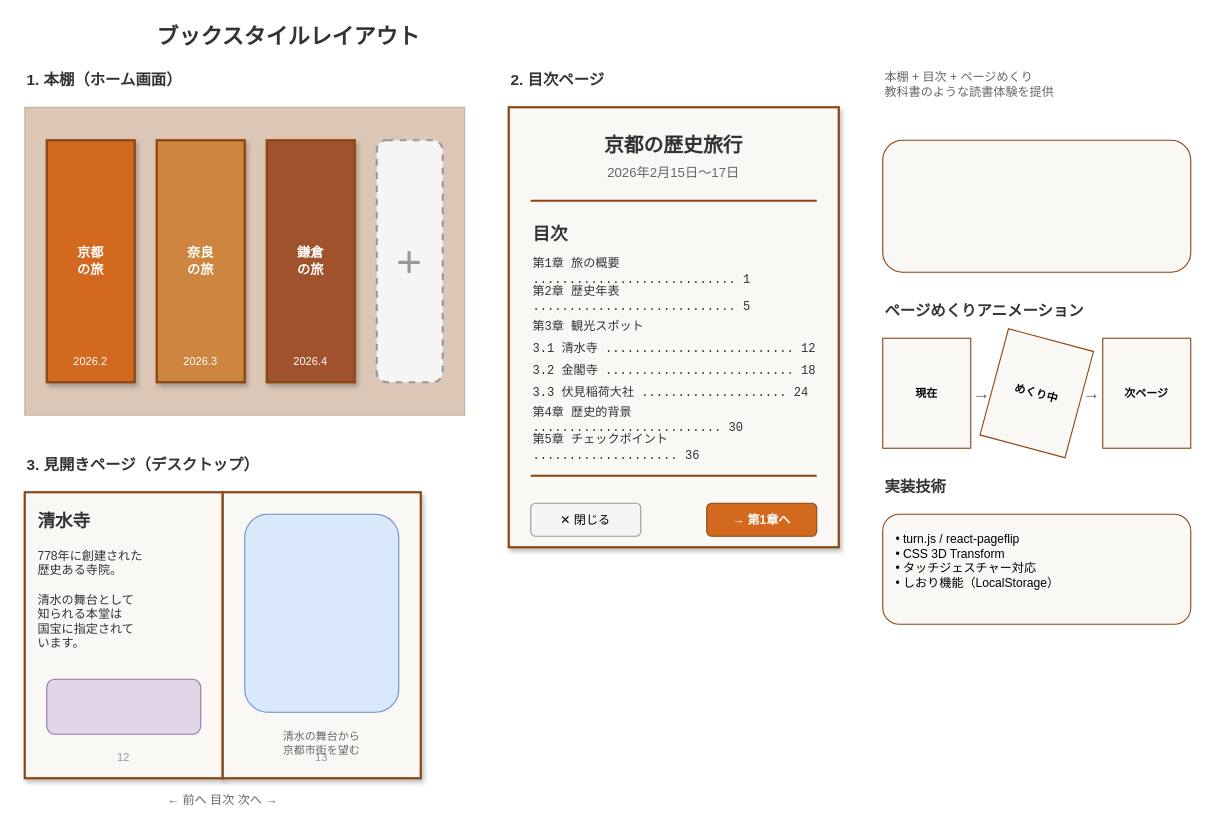
Some shapes in this 1210 by 829 pixel diagram are drawn without their labels. Here are the shapes that lost their labels. From the top down, the centre of each, then its label:
At pixel 1036 205: "✓ 実装難易度: 高 ✓ ユニーク性: 非常に高 ✓ 没入感: 高 ✓ 教育的: 最適 ✓ 適用場面: 歴史学習、ユニーク性重視".
At pixel 321 612: "[大きな写真]".
At pixel 123 706: "[図版]".
